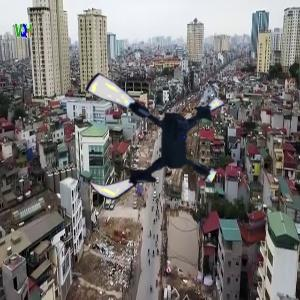drone: (71, 58, 227, 214)
